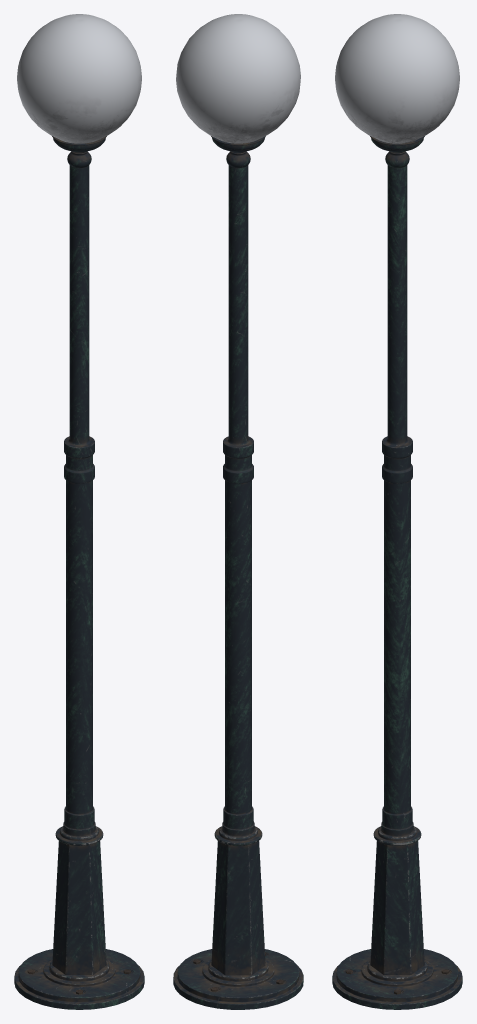
Rendered from spherical_street_lamp.glb.
3 renders of one model, left to right at view 1: azimuth 90°, elevation 25°; view 2: azimuth 150°, elevation 25°; view 3: azimuth 270°, elevation 25°, orthographic.
Visible parts, largest first — view 1: StrLmp1_Post, StrLmp1_Lamp, StrLmp1_Stand; view 2: StrLmp1_Post, StrLmp1_Lamp, StrLmp1_Stand; view 3: StrLmp1_Post, StrLmp1_Lamp, StrLmp1_Stand.
Part boxes in pixels (x1,y1,x2,y2): StrLmp1_Post: (14,167,144,1009); StrLmp1_Lamp: (17,14,141,143); StrLmp1_Stand: (52,136,106,170); StrLmp1_Post: (173,167,303,1009); StrLmp1_Lamp: (176,14,300,143); StrLmp1_Stand: (211,136,265,170); StrLmp1_Post: (332,167,462,1009); StrLmp1_Lamp: (335,14,459,143); StrLmp1_Stand: (370,136,424,170).
Size of the model in its own units: 0.3243 by 2.64 by 0.3243.
1 material, 1 textured.
